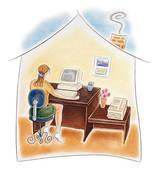chair: (25, 87, 52, 145)
person: (30, 59, 64, 143)
tvmonitor: (57, 63, 81, 85)
